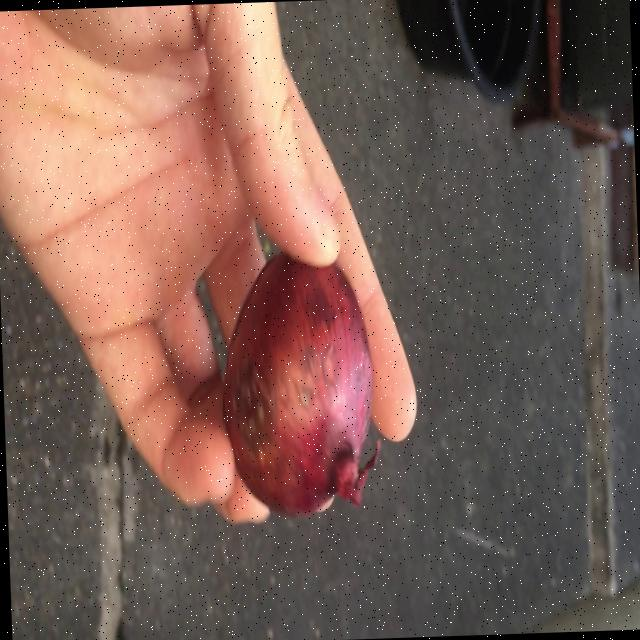Onion: (222, 253, 380, 515)
